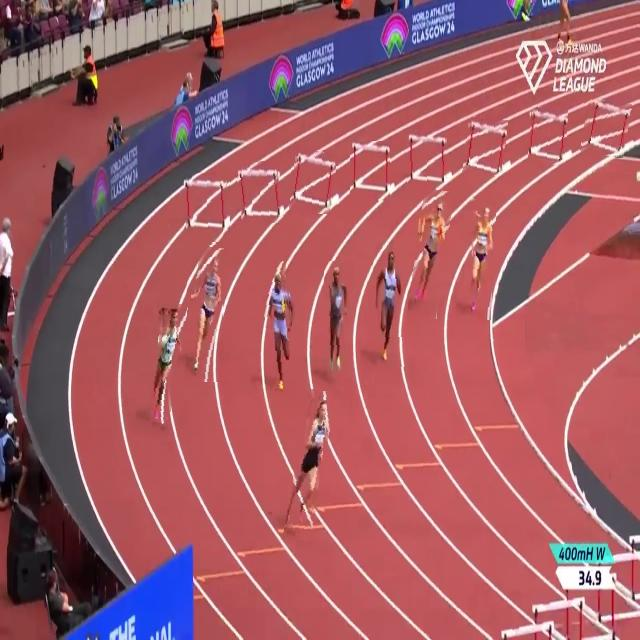athlete: (290, 388, 330, 540), (412, 188, 450, 319), (188, 245, 224, 382), (150, 302, 184, 423), (264, 262, 294, 393), (373, 248, 405, 367), (467, 199, 496, 320), (325, 260, 352, 371)
hurdle: (184, 174, 230, 244), (237, 160, 283, 225), (292, 150, 338, 214), (582, 98, 630, 157), (464, 116, 507, 175), (350, 142, 390, 202), (407, 131, 447, 190), (528, 106, 567, 166)
